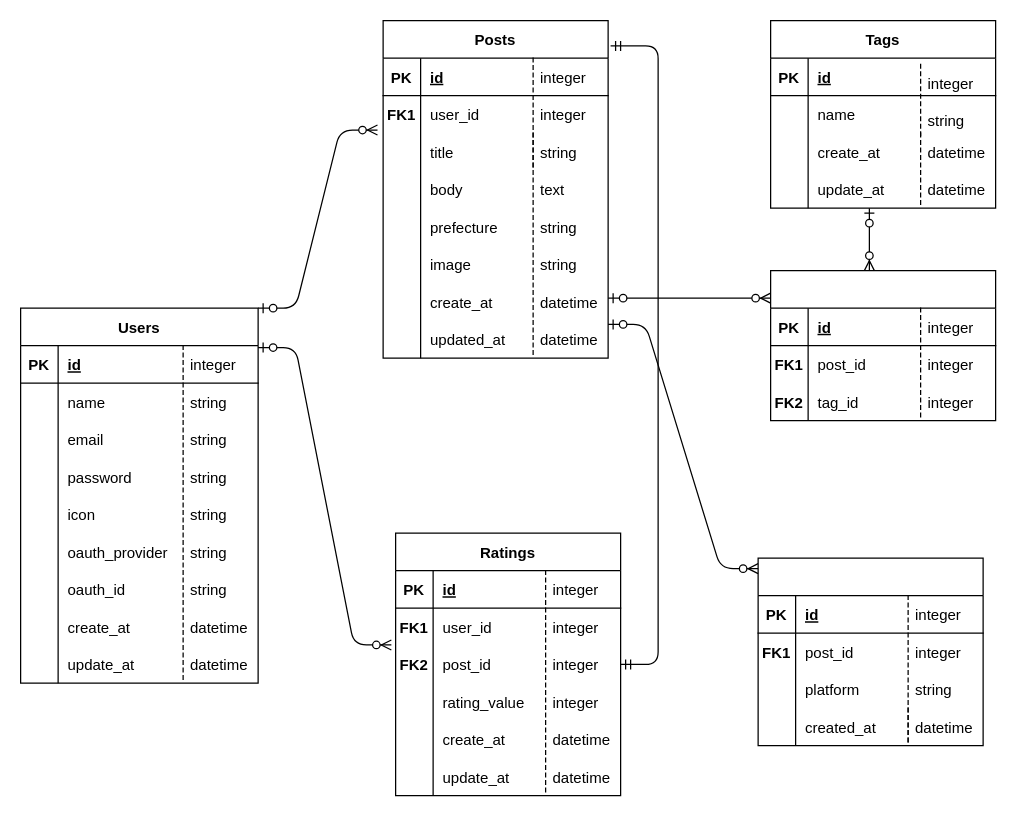
Some shapes in this 1016 by 816 pixel diagram are drawn without their labels. The shapes that lost their labels are listed below. From the top down, each one's box as (x1, y1, x2, y2) in pixels, then its label:
(769, 269, 996, 421): Posttags
(757, 557, 983, 746): SocialShares
